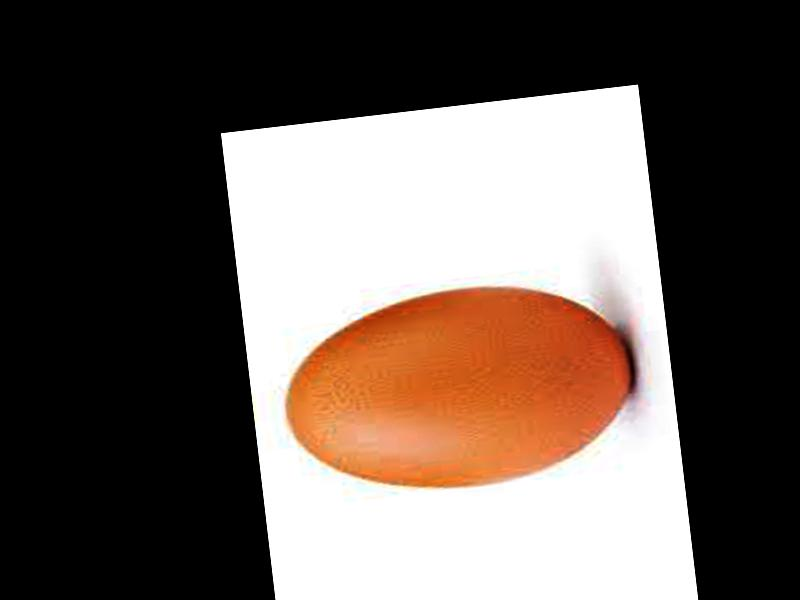Eggs: (274, 272, 642, 503)
